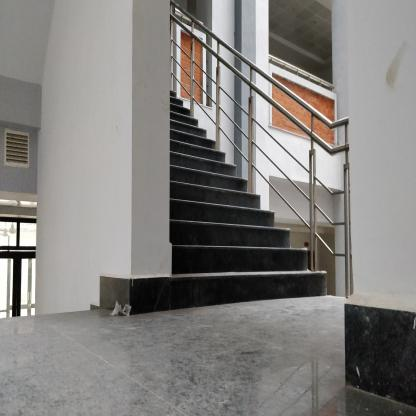stairs: (171, 165, 248, 324)
